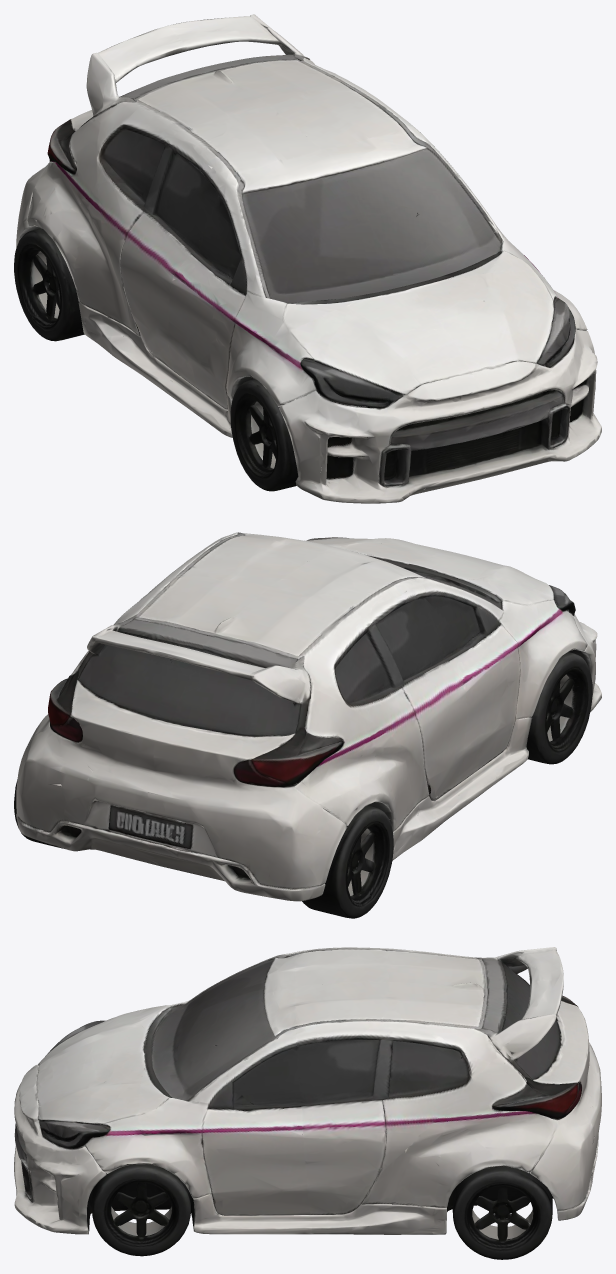
Rendered from viper.glb.
3 renders of one model, top to bottom at view 1: azimuth 30°, elevation 25°; view 2: azimuth 150°, elevation 25°; view 3: azimuth 270°, elevation 25°, orthographic. The views are drawn at different scales.
Visible parts, largest first — view 1: tripo_node_5578a334-42da-415e-bfc3-8de7bcb5f290; view 2: tripo_node_5578a334-42da-415e-bfc3-8de7bcb5f290; view 3: tripo_node_5578a334-42da-415e-bfc3-8de7bcb5f290.
Boxes of the visible parts, x1=… form: tripo_node_5578a334-42da-415e-bfc3-8de7bcb5f290: x1=14, y1=14, x2=601, y2=503; tripo_node_5578a334-42da-415e-bfc3-8de7bcb5f290: x1=14, y1=532, x2=601, y2=918; tripo_node_5578a334-42da-415e-bfc3-8de7bcb5f290: x1=14, y1=947, x2=601, y2=1259.
Size of the model in its own units: 0.5505 by 0.3961 by 0.9797.
Materials: 1 (1 with a texture image).
